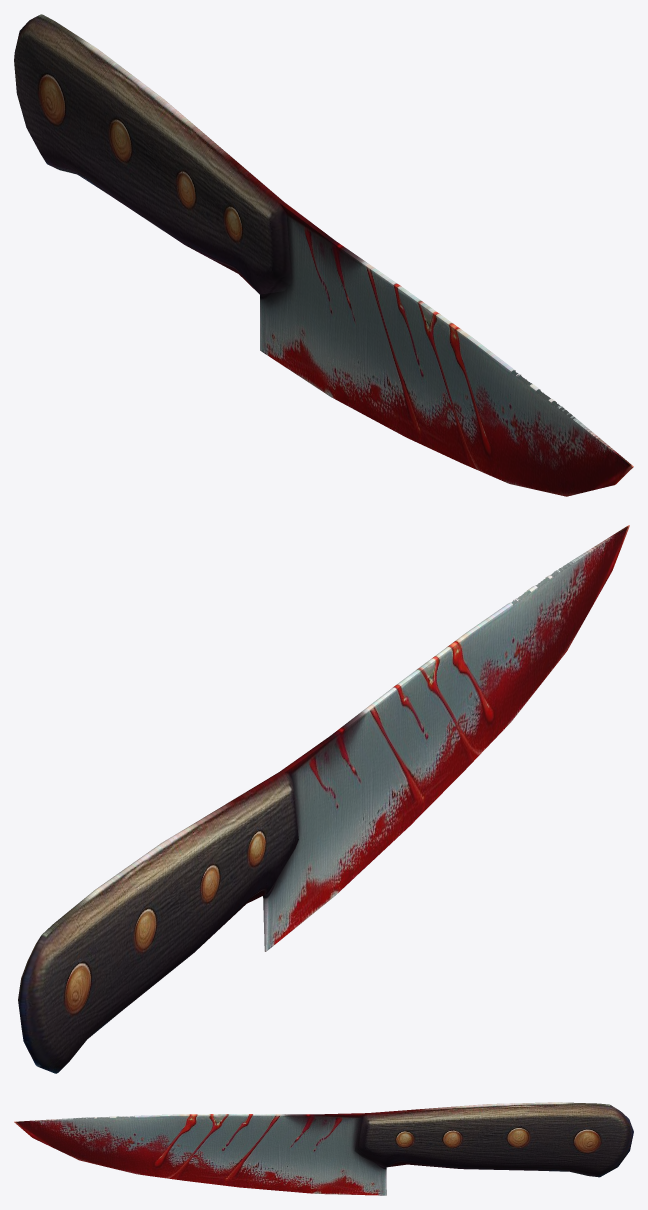
File: knife.fbx
3 renders of one model, top to bottom at view 1: azimuth 30°, elevation 25°; view 2: azimuth 150°, elevation 25°; view 3: azimuth 270°, elevation 25°, orthographic. The views are drawn at different scales.
Visible parts, largest first — view 1: Knife; view 2: Knife; view 3: Knife.
Boxes of the visible parts, x1=… form: Knife: x1=14, y1=14, x2=633, y2=496; Knife: x1=18, y1=525, x2=629, y2=1073; Knife: x1=14, y1=1102, x2=633, y2=1195.
Bounding box in the file's own units: 7.03 × 45.27 × 274.
